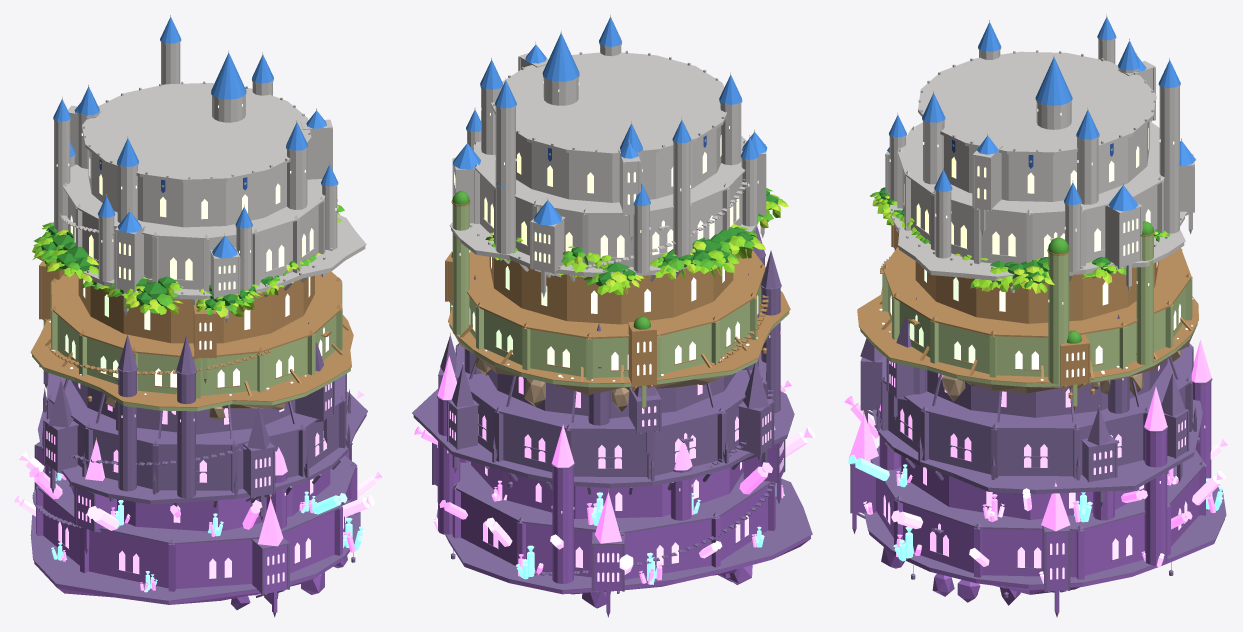
File: TowerOfPets_Tower_Middle.fbx
The picture shows the model from 3 angles, left to right: view 1: azimuth 30°, elevation 25°; view 2: azimuth 150°, elevation 25°; view 3: azimuth 270°, elevation 25°; orthographic projection. The views are drawn at different scales.
Parts seen in each view (by area): view 1: Kingdom_Shell__Kingdom_Stone, Shadow_Shell__Shadow_Stone, Crystal_Shell__Crystal_Rock, Forest_Shell__Forest_Wood, Crystal_Shell__Shadow_Stone, Forest_Shell__Mossy_Stone, Kingdom_Castle__Kingdom_Stone, Kingdom_Shell__Roof_Blue, Forest_Canopy__Leaves_Dark, Kingdom_Shell__Window_Warm, Forest_Shell__Forest_Glow, Forest_Canopy__Leaves_Light (+10 smaller); view 2: Kingdom_Shell__Kingdom_Stone, Shadow_Shell__Shadow_Stone, Crystal_Shell__Crystal_Rock, Forest_Shell__Forest_Wood, Forest_Shell__Mossy_Stone, Crystal_Shell__Shadow_Stone, Kingdom_Shell__Roof_Blue, Kingdom_Castle__Kingdom_Stone, Kingdom_Shell__Window_Warm, Forest_Canopy__Leaves_Light, Crystal_Shell__Crystal_Purple, Forest_Shell__Forest_Glow (+10 smaller); view 3: Kingdom_Shell__Kingdom_Stone, Shadow_Shell__Shadow_Stone, Crystal_Shell__Crystal_Rock, Forest_Shell__Forest_Wood, Forest_Shell__Mossy_Stone, Crystal_Shell__Shadow_Stone, Kingdom_Castle__Kingdom_Stone, Kingdom_Shell__Roof_Blue, Crystal_Shell__Crystal_Purple, Kingdom_Shell__Window_Warm, Kingdom_Castle__Roof_Blue, Forest_Shell__Forest_Glow (+11 smaller).
Part boxes in pixels (x1,y1,x2,y2): Kingdom_Shell__Kingdom_Stone: (53, 40, 366, 322); Shadow_Shell__Shadow_Stone: (37, 322, 367, 520); Crystal_Shell__Crystal_Rock: (34, 447, 357, 612); Forest_Shell__Forest_Wood: (30, 261, 353, 407); Crystal_Shell__Shadow_Stone: (30, 442, 360, 617); Forest_Shell__Mossy_Stone: (32, 282, 350, 411); Kingdom_Castle__Kingdom_Stone: (70, 81, 338, 294); Kingdom_Shell__Roof_Blue: (53, 16, 326, 258); Forest_Canopy__Leaves_Dark: (41, 225, 294, 309); Kingdom_Shell__Window_Warm: (56, 133, 313, 290); Forest_Shell__Forest_Glow: (65, 277, 328, 387); Forest_Canopy__Leaves_Light: (32, 212, 342, 316); Kingdom_Shell__Kingdom_Stone: (449, 42, 766, 297); Shadow_Shell__Shadow_Stone: (412, 225, 794, 494); Crystal_Shell__Crystal_Rock: (434, 397, 810, 612); Forest_Shell__Forest_Wood: (445, 200, 790, 409); Forest_Shell__Mossy_Stone: (449, 204, 789, 407); Crystal_Shell__Shadow_Stone: (432, 395, 812, 617); Kingdom_Shell__Roof_Blue: (452, 17, 767, 225); Kingdom_Castle__Kingdom_Stone: (466, 50, 758, 273); Kingdom_Shell__Window_Warm: (454, 107, 741, 263); Forest_Canopy__Leaves_Light: (488, 190, 786, 295); Crystal_Shell__Crystal_Purple: (437, 355, 775, 543); Forest_Shell__Forest_Glow: (452, 249, 758, 375); Kingdom_Shell__Kingdom_Stone: (885, 37, 1194, 292); Shadow_Shell__Shadow_Stone: (860, 246, 1202, 506); Crystal_Shell__Crystal_Rock: (852, 382, 1224, 612); Forest_Shell__Forest_Wood: (857, 218, 1198, 410); Forest_Shell__Mossy_Stone: (860, 234, 1197, 406); Crystal_Shell__Shadow_Stone: (850, 378, 1226, 617); Kingdom_Castle__Kingdom_Stone: (889, 50, 1181, 272); Kingdom_Shell__Roof_Blue: (887, 17, 1195, 211); Crystal_Shell__Crystal_Purple: (849, 339, 1211, 531); Kingdom_Shell__Window_Warm: (904, 128, 1174, 256); Kingdom_Castle__Roof_Blue: (889, 57, 1179, 204); Forest_Shell__Forest_Glow: (890, 262, 1180, 377).
Bounding box in the file's own units: 58585 × 84244 × 56942.
